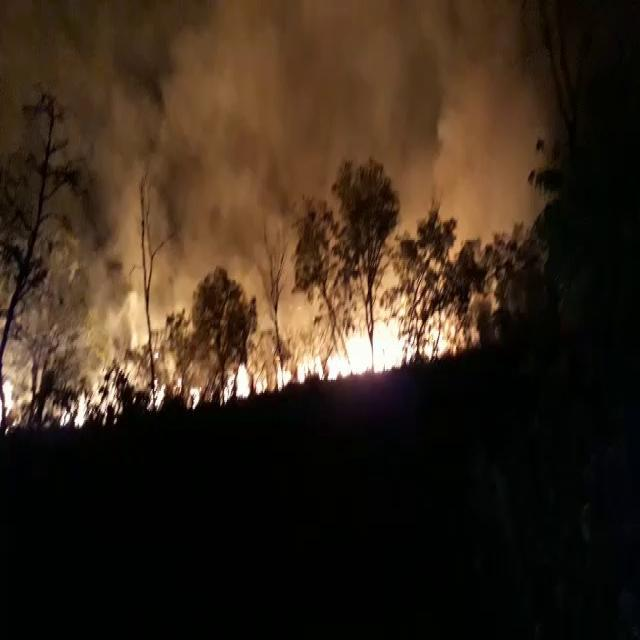Fire: (253, 31, 460, 244), (291, 310, 448, 386), (219, 356, 255, 404), (2, 365, 23, 422)
